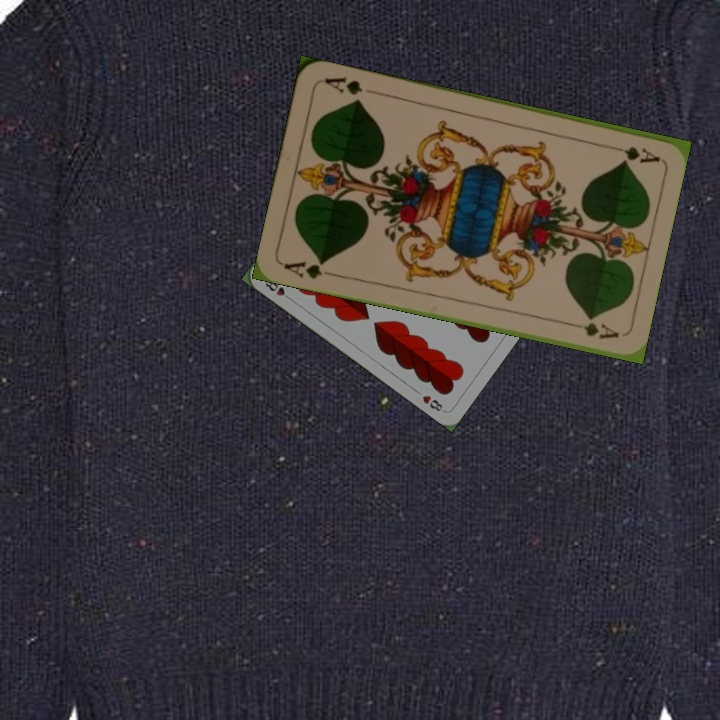GA: (603, 140, 661, 166), (280, 257, 328, 282)
H8: (259, 275, 295, 303)
